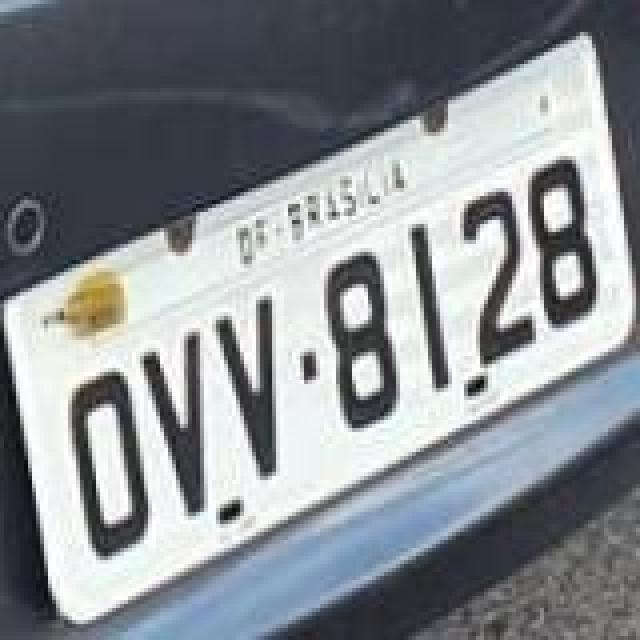1: (410, 216, 454, 392)
2: (458, 188, 534, 372)
8: (320, 248, 400, 432), (526, 154, 602, 326)
O: (70, 366, 154, 562)
V: (134, 328, 210, 520), (210, 290, 278, 478)
